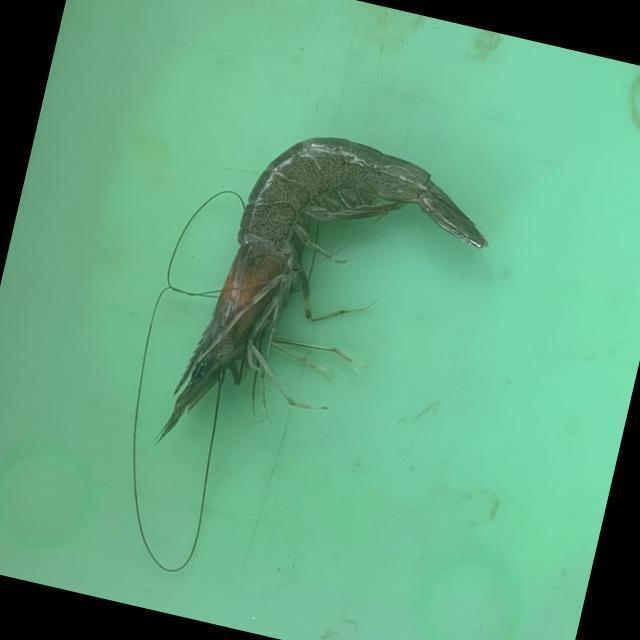shrimp: (160, 137, 486, 437)
